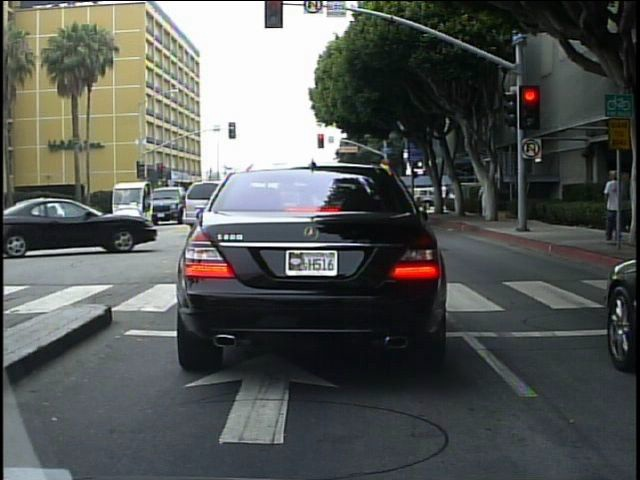person: (603, 167, 628, 255), (477, 179, 491, 218), (437, 179, 451, 213), (631, 165, 634, 257)
